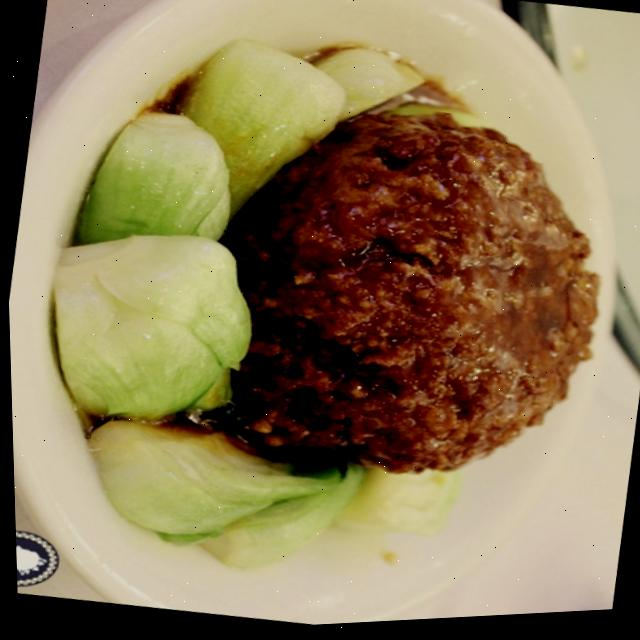猪肉菜式: (1, 0, 640, 604)
